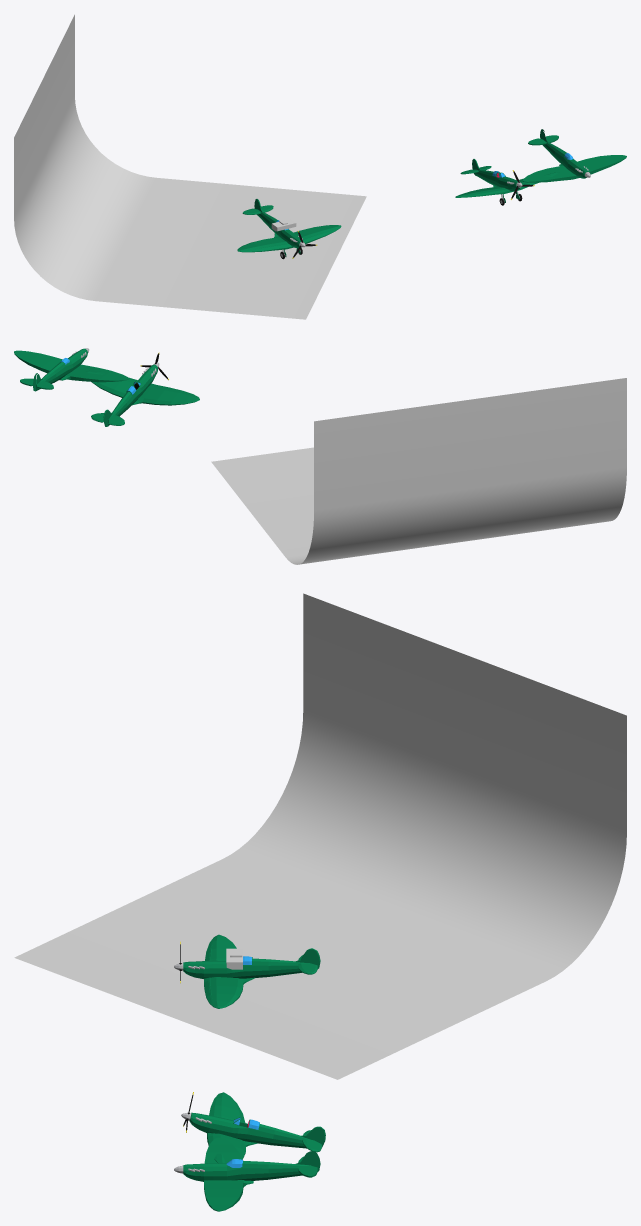
File: spitfire.fbx
The picture shows the model from 3 angles, top to bottom: view 1: azimuth 30°, elevation 25°; view 2: azimuth 150°, elevation 25°; view 3: azimuth 270°, elevation 25°; orthographic projection. The views are drawn at different scales.
Visible parts, largest first — view 1: Backdrop, Elevator.001, Cocpit front.004, Wings.001; view 2: Backdrop, Cocpit front.004, Elevator.001; view 3: Backdrop, Elevator.001, Cocpit front.004, FUSE, Wings.001.
Part boxes in pixels (x1=…): Backdrop: x1=14, y1=14, x2=366, y2=319; Elevator.001: x1=523, y1=129, x2=626, y2=182; Cocpit front.004: x1=455, y1=159, x2=559, y2=205; Wings.001: x1=238, y1=225, x2=340, y2=251; Backdrop: x1=211, y1=378, x2=626, y2=564; Cocpit front.004: x1=85, y1=352, x2=199, y2=426; Elevator.001: x1=14, y1=348, x2=128, y2=391; Backdrop: x1=14, y1=593, x2=626, y2=1079; Elevator.001: x1=174, y1=1137, x2=320, y2=1211; Cocpit front.004: x1=181, y1=1092, x2=325, y2=1163; FUSE: x1=213, y1=958, x2=305, y2=978; Wings.001: x1=204, y1=935, x2=237, y2=1008.
Size of the model in its own units: 6167 by 1582 by 3854.
